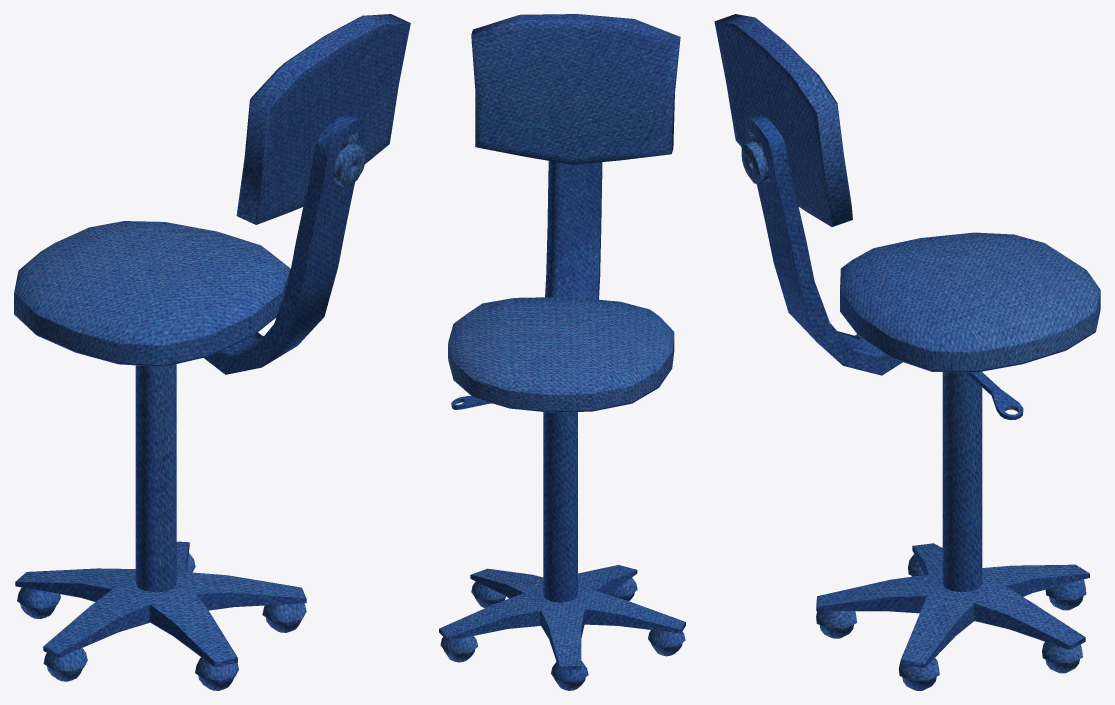
Rendered from OfficeChair.obj.
3 renders of one model, left to right at view 1: azimuth 30°, elevation 25°; view 2: azimuth 150°, elevation 25°; view 3: azimuth 270°, elevation 25°, orthographic. The views are drawn at different scales.
Parts seen in each view (by area): view 1: pSphere10; view 2: pSphere10; view 3: pSphere10.
Boxes of the visible parts, x1,y1,x2,y2 form: pSphere10: (14,14,410,690); pSphere10: (439,14,685,690); pSphere10: (714,14,1100,690).
Size of the model in its own units: 4.01 by 8.16 by 4.5.
